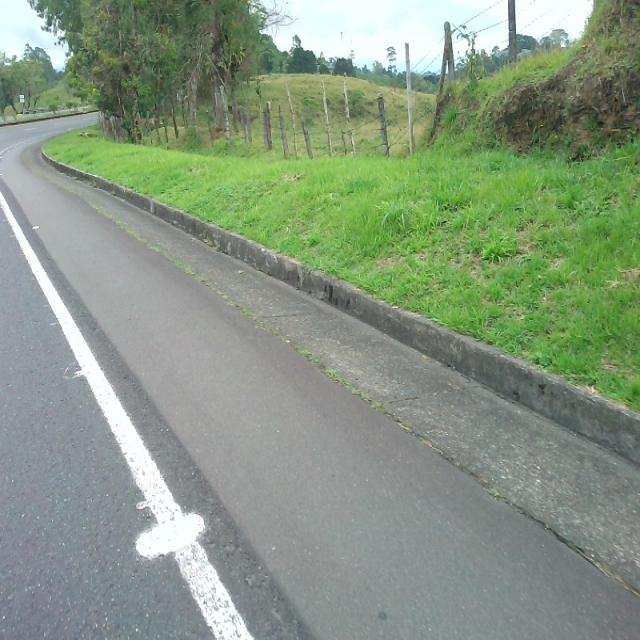DITCH: (6, 112, 638, 638), (4, 114, 638, 638), (1, 126, 638, 638)
